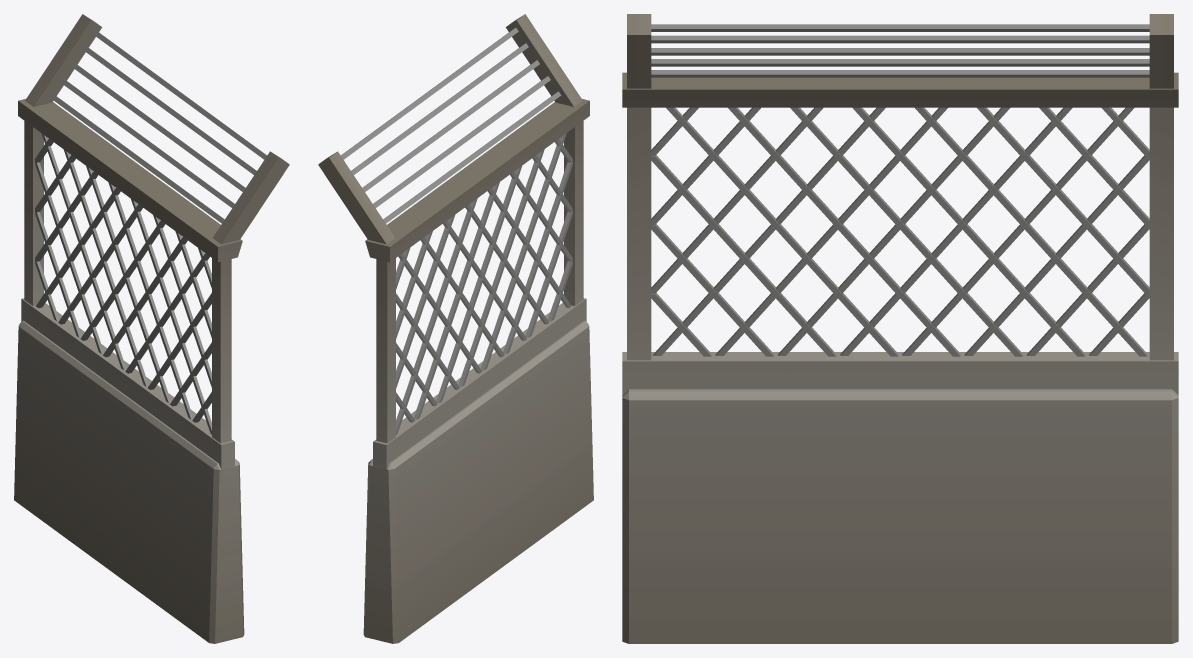
Rendered from Fence_6_2_C.fbx.
3 views of the same model, side by side, from view 1: azimuth 30°, elevation 25°; view 2: azimuth 150°, elevation 25°; view 3: azimuth 270°, elevation 25° (orthographic). The views are drawn at different scales.
Parts seen in each view (by area): view 1: Fence_6_2_C; view 2: Fence_6_2_C; view 3: Fence_6_2_C.
Boxes of the visible parts, x1,y1,x2,y2 form: Fence_6_2_C: [14, 14, 289, 643]; Fence_6_2_C: [318, 14, 593, 643]; Fence_6_2_C: [622, 14, 1178, 643].
Bounding box in the file's own units: 69.53 × 388 × 300.
